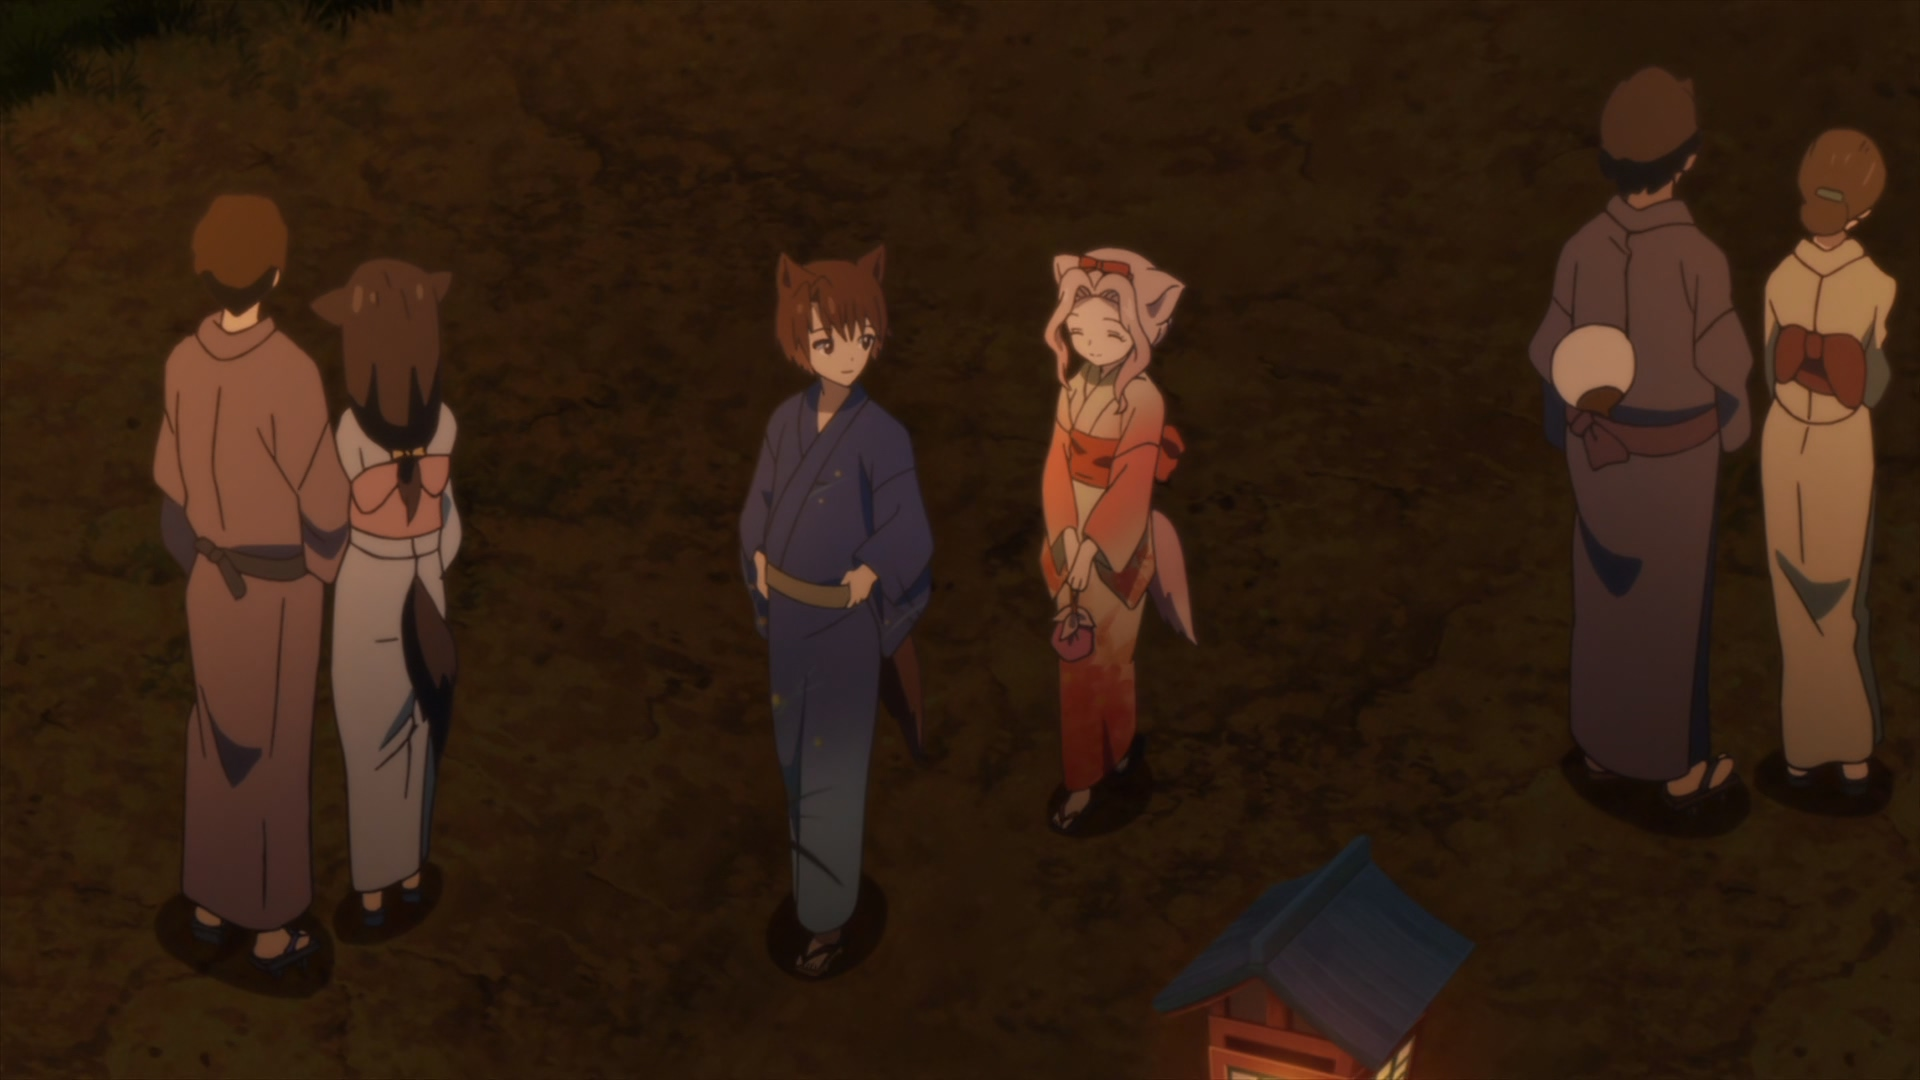其他: (1530, 65, 1749, 799), (152, 189, 352, 971), (313, 257, 464, 924), (1760, 129, 1898, 785)
枣: (738, 244, 936, 981)
莲: (1040, 245, 1197, 831)
